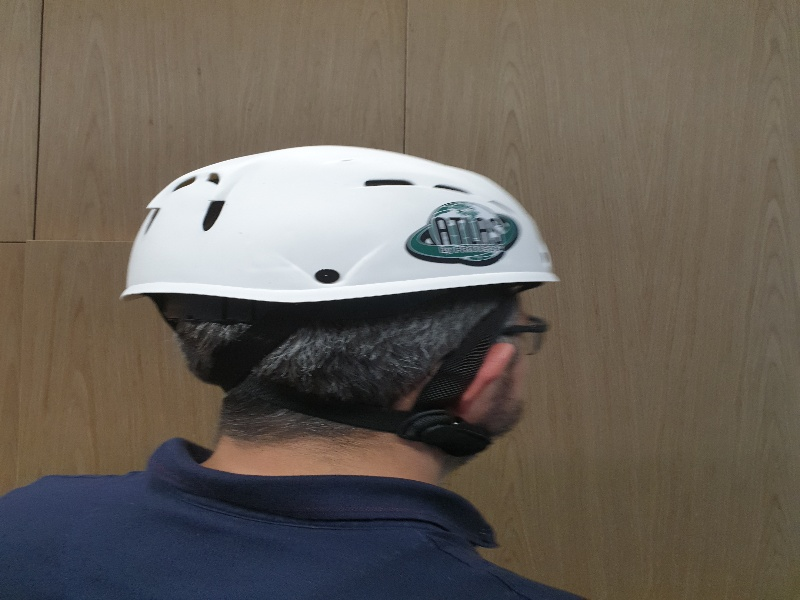Baret: (122, 143, 558, 299)
